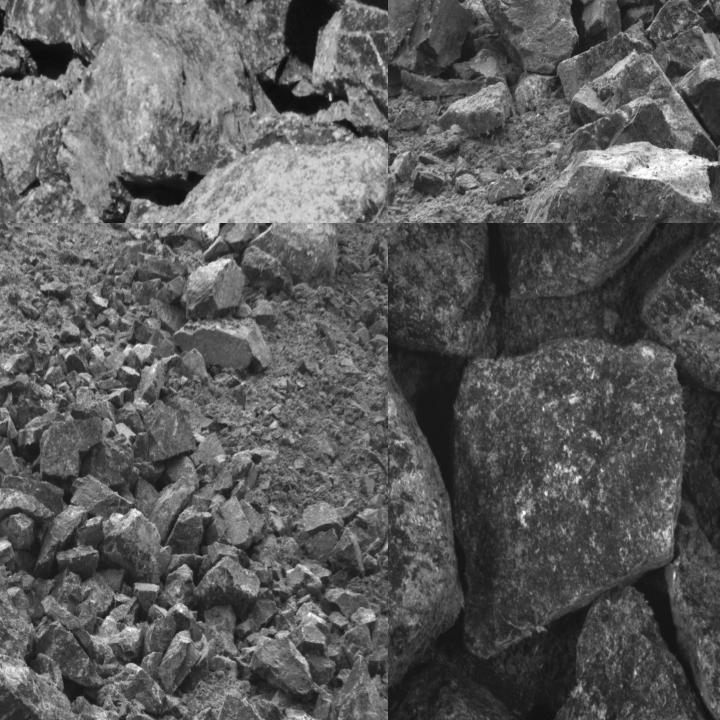stone: (448, 336, 682, 664), (51, 26, 288, 217), (388, 223, 464, 719), (547, 586, 719, 719), (0, 0, 292, 78), (110, 144, 387, 222), (485, 140, 719, 222), (482, 223, 713, 300), (569, 52, 718, 156), (388, 223, 500, 357), (663, 469, 719, 719), (643, 223, 719, 400), (309, 0, 387, 152), (388, 660, 549, 719), (559, 100, 688, 171), (558, 19, 655, 102), (477, 0, 580, 74), (388, 0, 473, 78), (301, 654, 387, 719), (257, 223, 342, 288), (98, 509, 171, 583), (174, 318, 272, 372), (31, 619, 105, 687), (250, 635, 322, 700), (39, 417, 113, 479), (0, 659, 73, 719), (564, 0, 655, 47), (192, 556, 260, 618), (179, 258, 245, 320), (34, 505, 88, 578), (438, 81, 510, 135), (652, 26, 719, 82), (142, 401, 196, 463), (683, 57, 719, 144), (70, 474, 137, 520), (149, 476, 196, 541), (645, 0, 707, 48), (86, 430, 137, 488), (166, 497, 212, 555), (205, 496, 253, 548), (241, 246, 294, 292), (329, 527, 364, 578), (18, 410, 66, 447), (212, 451, 254, 492), (0, 488, 56, 517), (132, 361, 161, 416), (57, 545, 99, 580), (0, 512, 37, 550), (158, 565, 195, 603), (299, 503, 344, 533), (488, 168, 526, 202), (85, 574, 115, 616), (144, 614, 177, 652), (108, 625, 142, 660), (341, 624, 373, 661), (287, 626, 327, 652), (412, 166, 446, 195), (225, 223, 259, 251), (250, 598, 277, 633), (307, 654, 337, 683), (130, 278, 163, 304), (388, 149, 414, 181), (64, 345, 89, 373), (2, 352, 33, 374), (132, 344, 161, 366), (0, 445, 19, 477), (58, 318, 80, 344), (279, 708, 327, 719), (117, 365, 139, 388), (0, 425, 14, 454), (388, 175, 397, 214)
